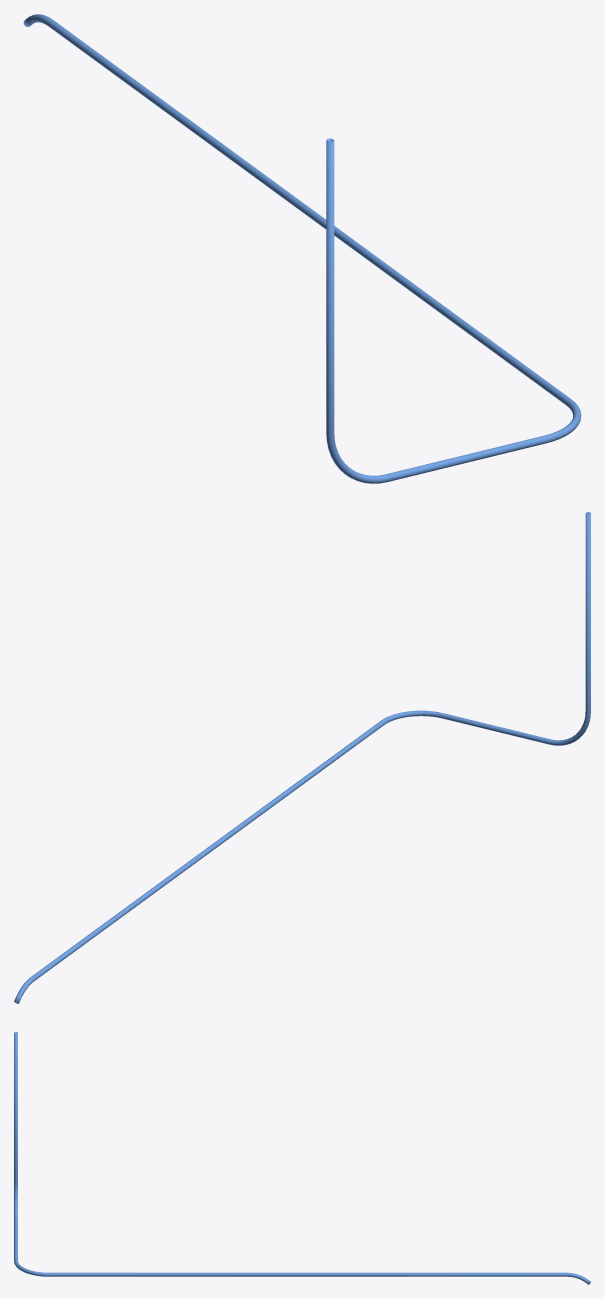
File: pipes_supply__water_heater__9301fbc9.glb
The picture shows the model from 3 angles, top to bottom: view 1: azimuth 30°, elevation 25°; view 2: azimuth 150°, elevation 25°; view 3: azimuth 270°, elevation 25°; orthographic projection. The views are drawn at different scales.
Visible parts, largest first — view 1: pipe_supply_cold_riser_tmv_lo__pex; view 2: pipe_supply_cold_riser_tmv_lo__pex; view 3: pipe_supply_cold_riser_tmv_lo__pex.
Part boxes in pixels (bbox=[...]): pipe_supply_cold_riser_tmv_lo__pex: bbox=[23, 14, 581, 483]; pipe_supply_cold_riser_tmv_lo__pex: bbox=[14, 512, 590, 1003]; pipe_supply_cold_riser_tmv_lo__pex: bbox=[14, 1032, 590, 1284].
Bounding box in the file's own units: 0.8772 × 1.12 × 3.16.
